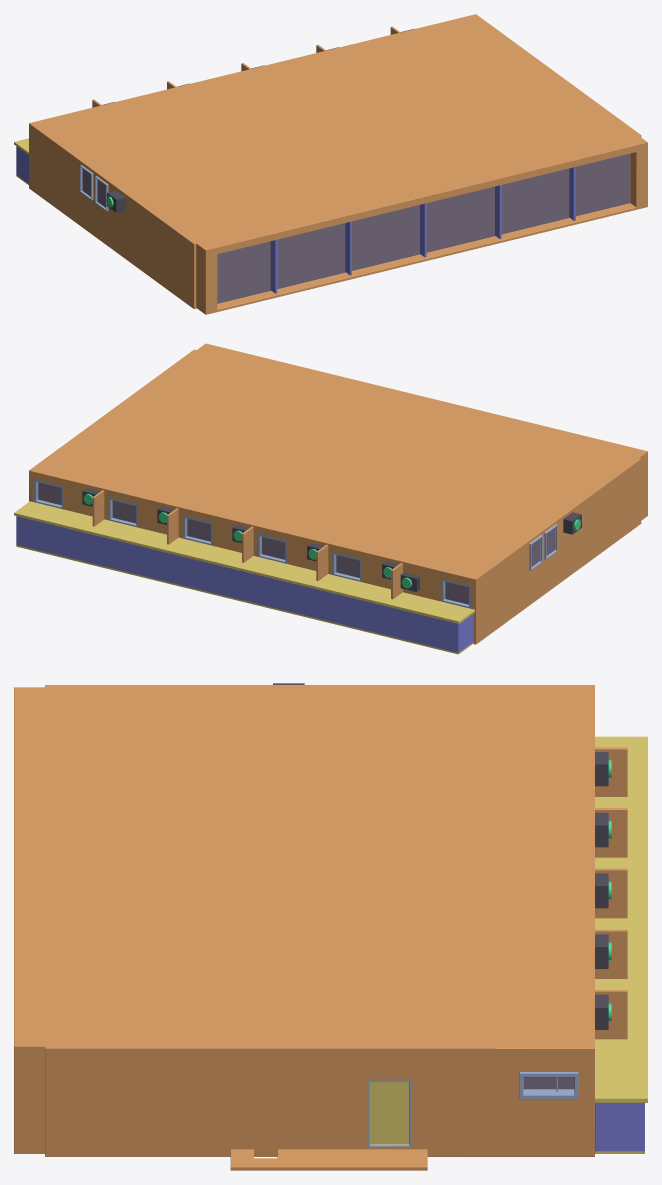
The model's file is BuildingBlock_2_1_p1.fbx.
3 renders of one model, top to bottom at view 1: azimuth 30°, elevation 25°; view 2: azimuth 150°, elevation 25°; view 3: azimuth 270°, elevation 25°, orthographic. The views are drawn at different scales.
Visible parts, largest first — view 1: BuildingBlock_2_1_p1; view 2: BuildingBlock_2_1_p1; view 3: BuildingBlock_2_1_p1.
Boxes of the visible parts, x1=… form: BuildingBlock_2_1_p1: x1=14, y1=14, x2=647, y2=314; BuildingBlock_2_1_p1: x1=14, y1=343, x2=647, y2=654; BuildingBlock_2_1_p1: x1=14, y1=683, x2=647, y2=1170.
Size of the model in its own units: 2392 by 311 by 1644.
